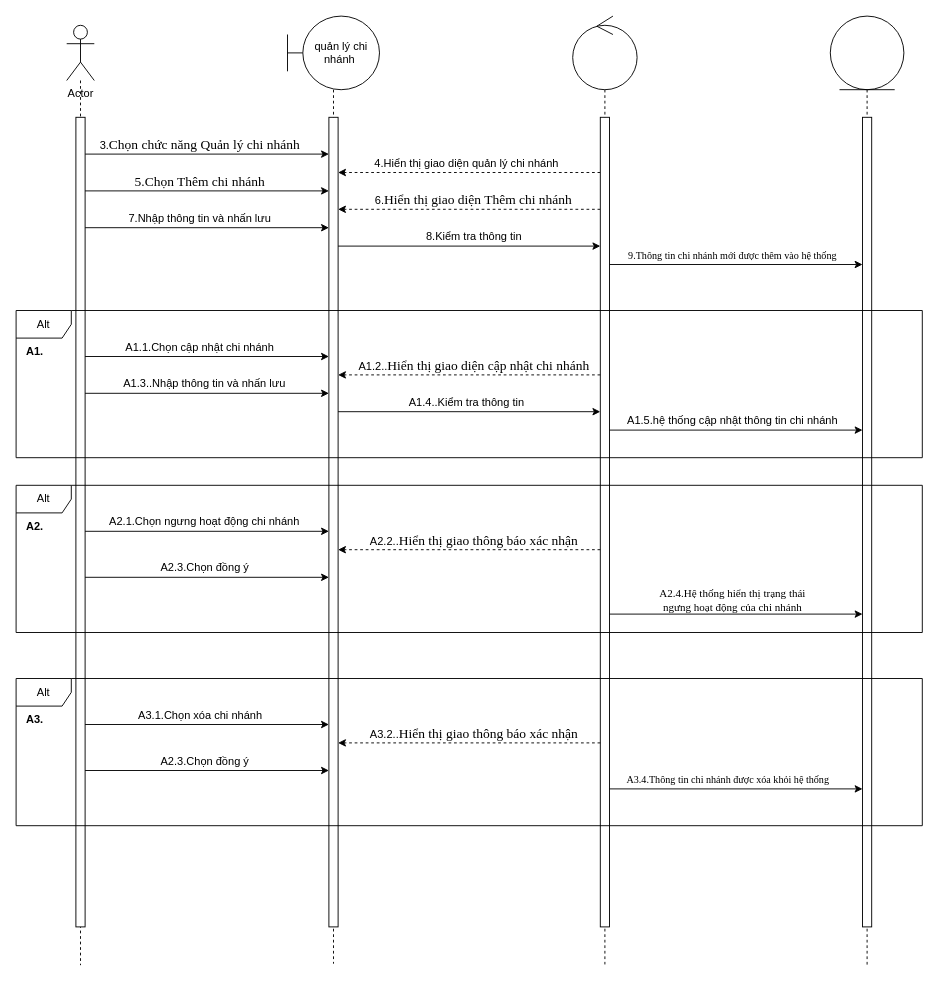
The diagram is 938 pixels wide and 983 high, and some of its shapes have lost their labels. Here are the shapes that lost their labels. From the top down, the box of each, then its label:
(572, 15, 637, 90): xử lý
(829, 15, 904, 90): Database
